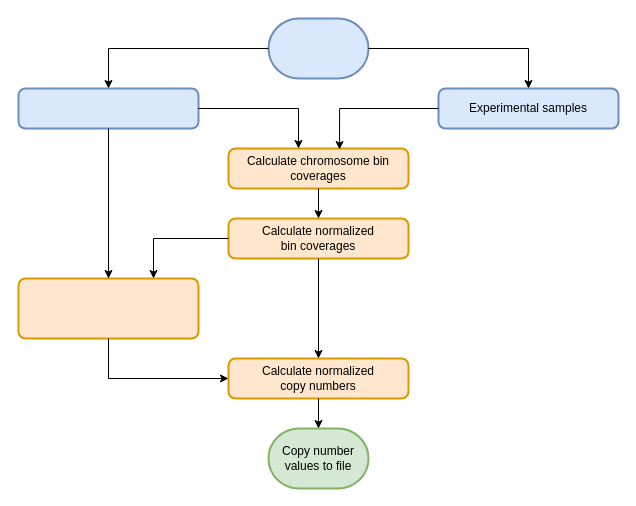
Image size: 636x506. Some labels were removed from this diagram. Each missing label, with the centre of its shape:
"BAM files" goes at (318,48).
"Calculate normalization factors of autosomal and sex chromosomes" goes at (108,308).
"Control samples" goes at (108,108).
